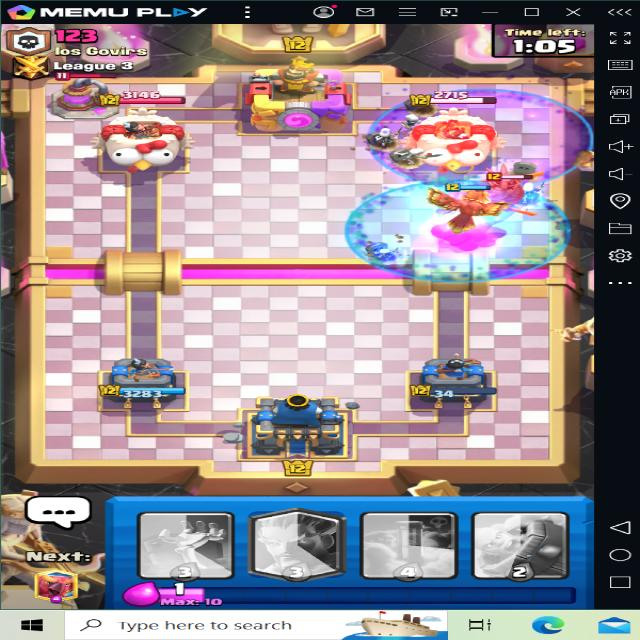elixir-collector: (42, 72, 122, 124)
pekka: (476, 171, 540, 220)
